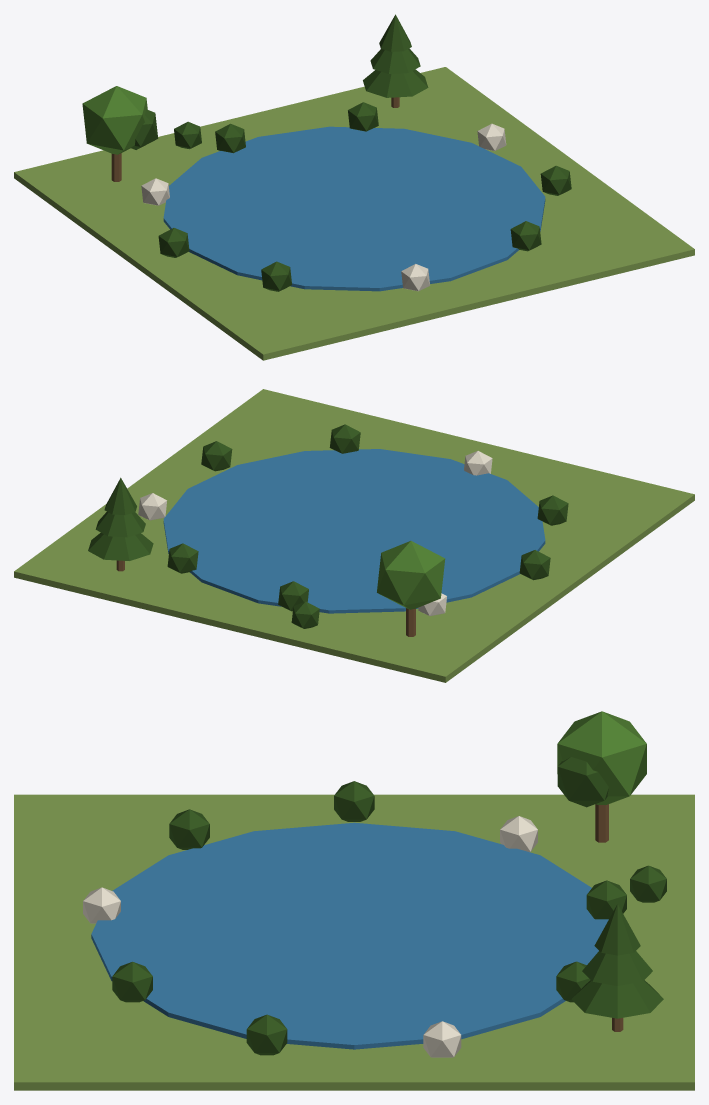
File: landscape.wild-lake.glb
The picture shows the model from 3 angles, top to bottom: view 1: azimuth 30°, elevation 25°; view 2: azimuth 150°, elevation 25°; view 3: azimuth 270°, elevation 25°; orthographic projection. The views are drawn at different scales.
Parts seen in each view (by area): view 1: landscape.wild-lake; view 2: landscape.wild-lake; view 3: landscape.wild-lake.
Boxes of the visible parts, left/top/right/bottom form: landscape.wild-lake: left=14, top=14, right=694, bottom=360; landscape.wild-lake: left=14, top=389, right=694, bottom=682; landscape.wild-lake: left=14, top=711, right=694, bottom=1090.
Bounding box in the file's own units: 22 × 4.96 × 22.
